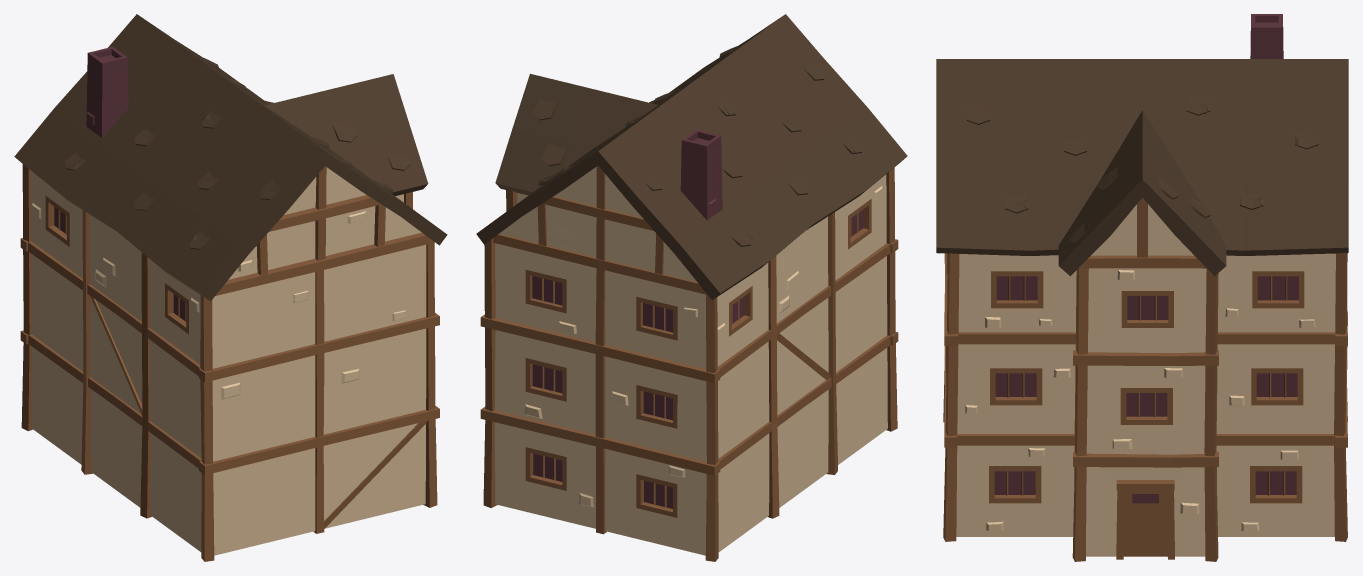
The model's file is house-medieval-large.fbx.
3 views of the same model, side by side, from view 1: azimuth 30°, elevation 25°; view 2: azimuth 150°, elevation 25°; view 3: azimuth 270°, elevation 25° (orthographic). The views are drawn at different scales.
Parts seen in each view (by area): view 1: house-medieval-large; view 2: house-medieval-large; view 3: house-medieval-large.
Boxes of the visible parts, box(x1,y1,x2,y2) form: house-medieval-large: box(14, 14, 447, 561); house-medieval-large: box(476, 14, 907, 561); house-medieval-large: box(936, 14, 1348, 561).
Bounding box in the file's own units: 8.17 × 10.54 × 9.28.
